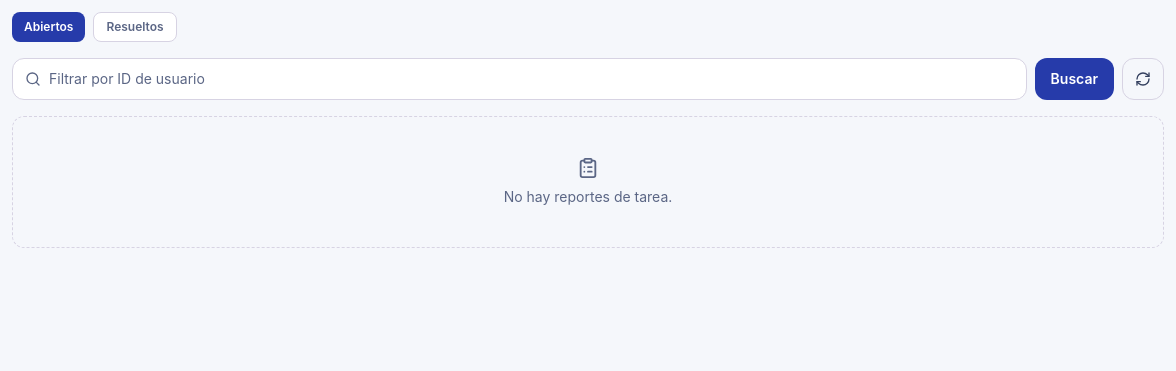
Scenario: TaskReportsTab › filtra los reportes por ID del usuario
This screenshot has width=1176, height=371.
In the field labelled "Filtrar por ID de usuario": {"x": 531, "y": 79} [49, 59, 1014, 99], type "user-42"
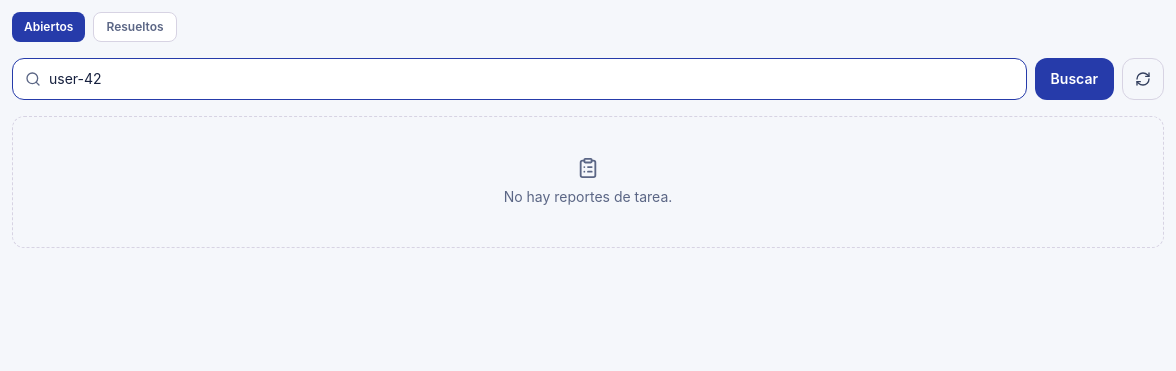
Click the button "Buscar": {"x": 1074, "y": 79} [1035, 58, 1114, 100]
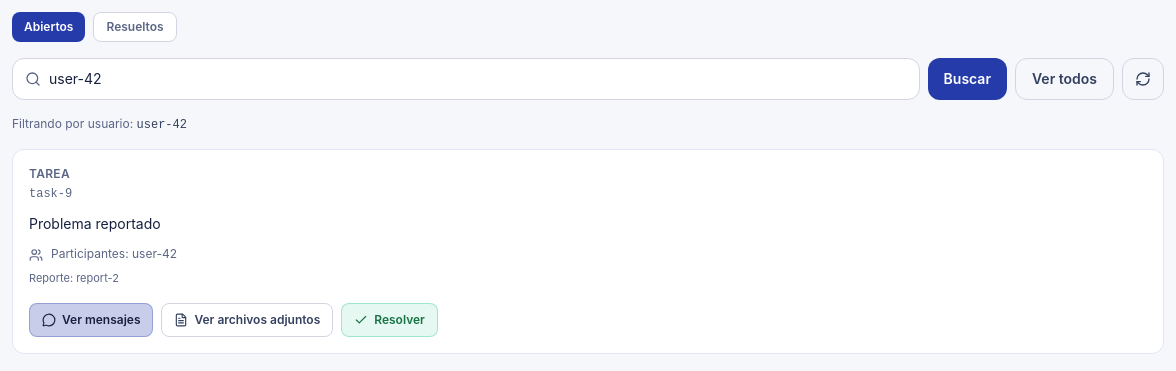
Now the text "Problema reportado" is shown, box [29, 215, 161, 232]
Now the text "user-42" is shown, box [136, 118, 187, 132]
